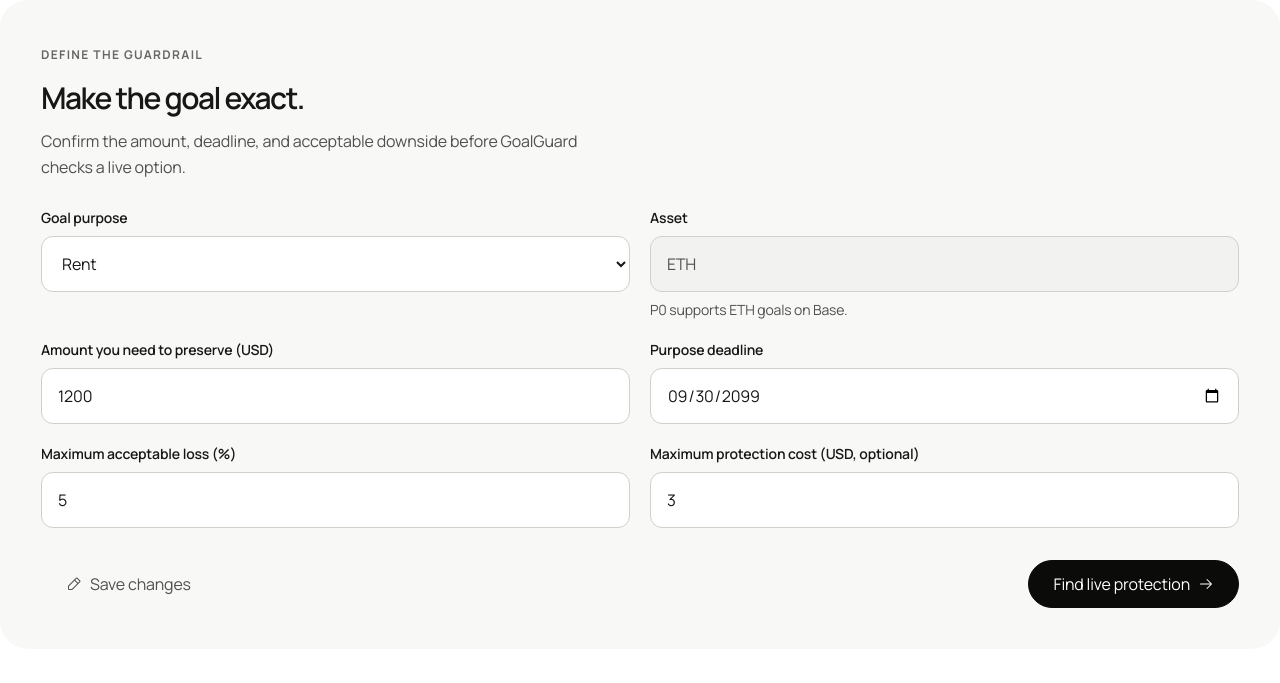
workflow panels › keeps invalid confirmation fields client-side
Replace the text in the field labelled "Amount you need to preserve (USD)" with "0" at coordinates (336, 396), box [41,368,630,424]
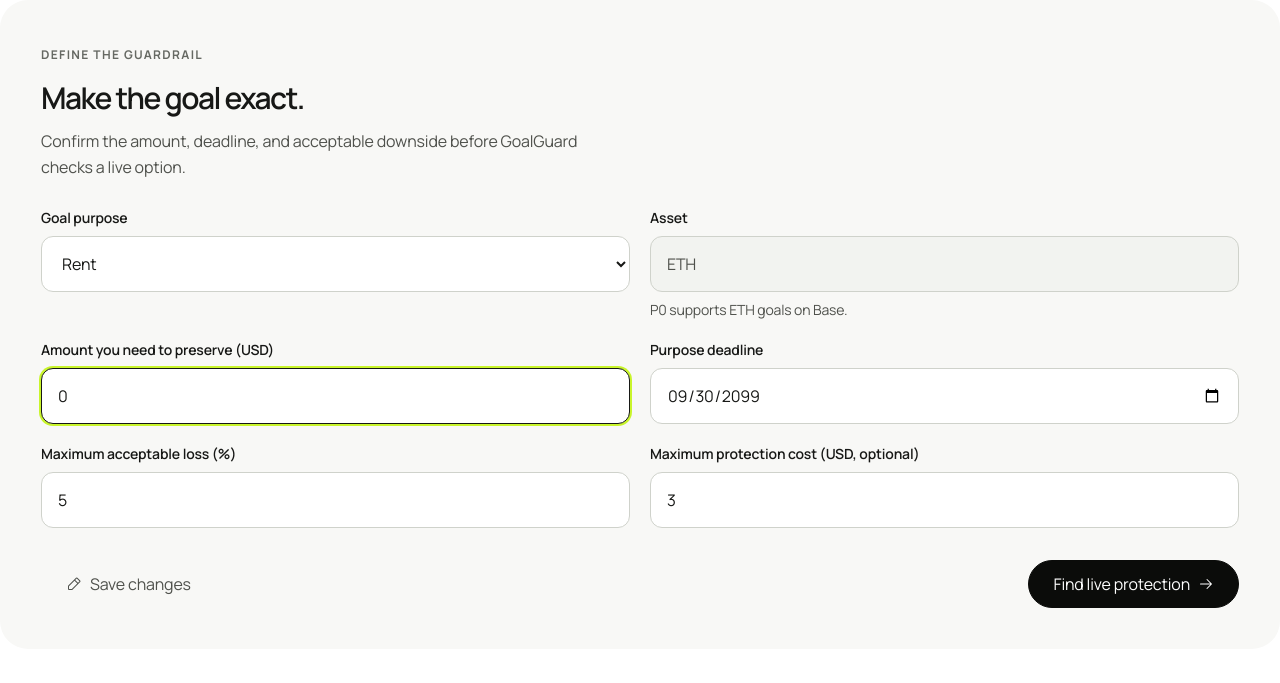
Click the button "Save changes".
click(128, 584)  # box [41,560,216,608]
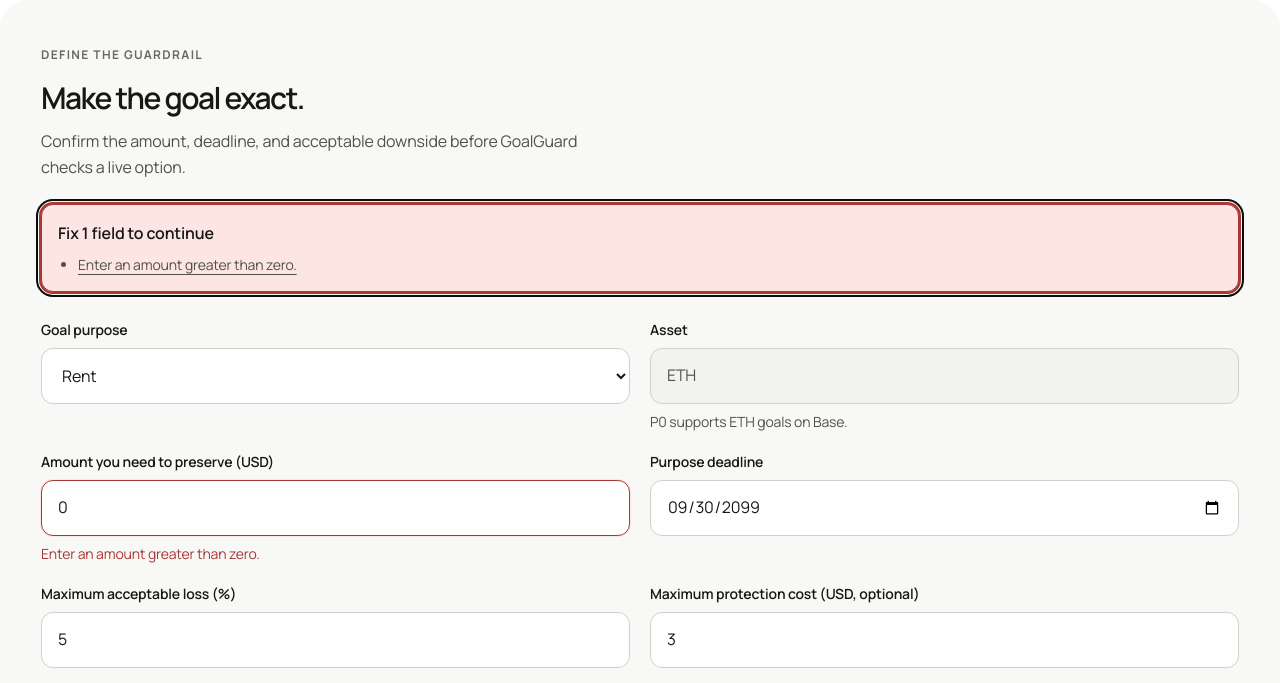
Result: the number of links "Enter an amount greater than zero." is 2 at [78,255,297,274]; [41,544,260,563]
